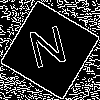N: (25, 25, 72, 78)
